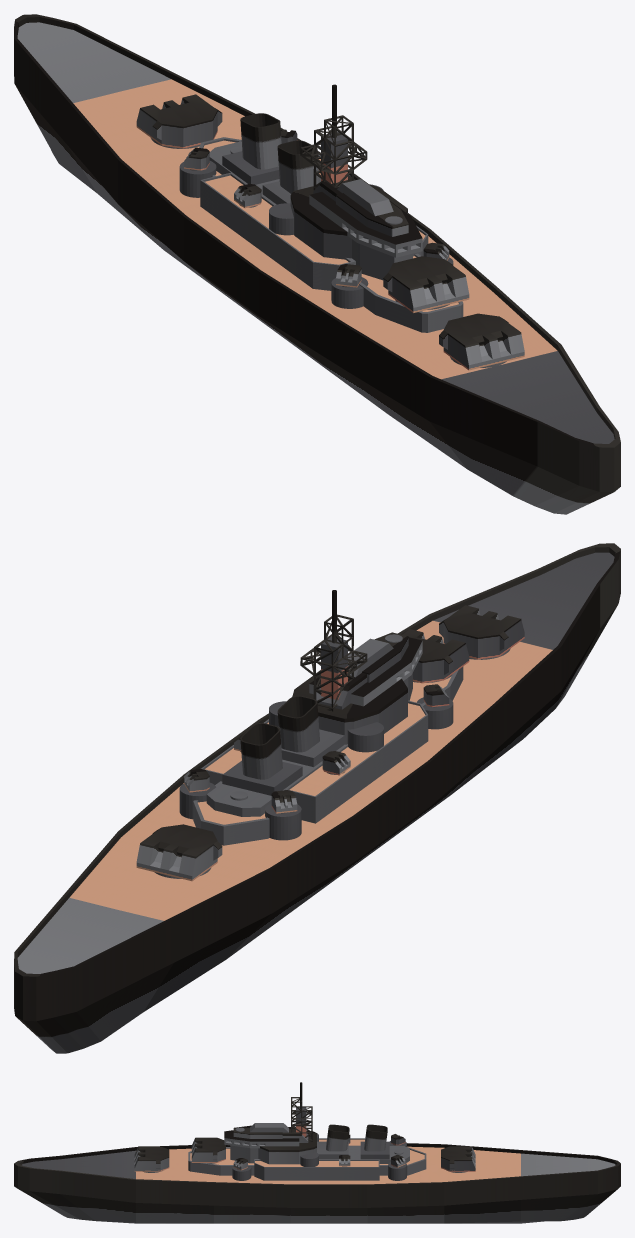
Rendered from battlecruiser.fbx.
3 views of the same model, one above another, from view 1: azimuth 30°, elevation 25°; view 2: azimuth 150°, elevation 25°; view 3: azimuth 270°, elevation 25° (orthographic). The views are drawn at different scales.
Visible parts, largest first — view 1: Cube.063, Cube.065, Cube.097, Cube.441, Cube.426, Cube.431, Cube.064, Cube.433, Cube.440, Cube.437, Cube.432, Cube.435 (+7 smaller); view 2: Cube.063, Cube.065, Cube.431, Cube.426, Cube.441, Cube.064, Cube.440, Cube.097, Cube.437, Cube.432, Cube.433, Cube.430 (+5 smaller); view 3: Cube.063, Cube.065, Cube.431, Cube.064, Cube.441, Cube.426, Cube.097, Cube.433, Cube.440, Cube.432, Cube.437, Cube.427 (+8 smaller).
Part boxes in pixels (x1,y1,x2,y2): Cube.063: [14, 14, 620, 514]; Cube.065: [200, 141, 428, 290]; Cube.097: [383, 256, 469, 312]; Cube.441: [439, 313, 524, 370]; Cube.426: [136, 94, 222, 148]; Cube.431: [262, 177, 407, 259]; Cube.064: [199, 137, 463, 332]; Cube.433: [309, 192, 422, 257]; Cube.440: [300, 115, 367, 190]; Cube.437: [240, 113, 281, 169]; Cube.432: [277, 140, 319, 193]; Cube.435: [336, 193, 408, 236]; Cube.063: [14, 543, 620, 1053]; Cube.065: [201, 700, 428, 823]; Cube.431: [281, 674, 407, 767]; Cube.426: [136, 824, 222, 881]; Cube.441: [439, 605, 524, 659]; Cube.064: [193, 666, 463, 845]; Cube.440: [300, 614, 367, 711]; Cube.097: [402, 629, 469, 683]; Cube.437: [240, 723, 282, 779]; Cube.432: [277, 695, 319, 752]; Cube.433: [309, 637, 422, 706]; Cube.430: [222, 760, 302, 795]; Cube.063: [14, 1143, 620, 1223]; Cube.065: [254, 1138, 409, 1180]; Cube.431: [258, 1130, 348, 1164]; Cube.064: [188, 1147, 426, 1175]; Cube.441: [134, 1146, 169, 1171]; Cube.426: [441, 1146, 475, 1171]; Cube.097: [191, 1137, 225, 1162]; Cube.433: [224, 1130, 299, 1148]; Cube.440: [291, 1097, 312, 1141]; Cube.432: [326, 1124, 349, 1151]; Cube.437: [364, 1124, 387, 1151]; Cube.427: [230, 1143, 264, 1163].
Size of the model in its own units: 1081 by 1646 by 6432.
9 materials, 9 textured.
